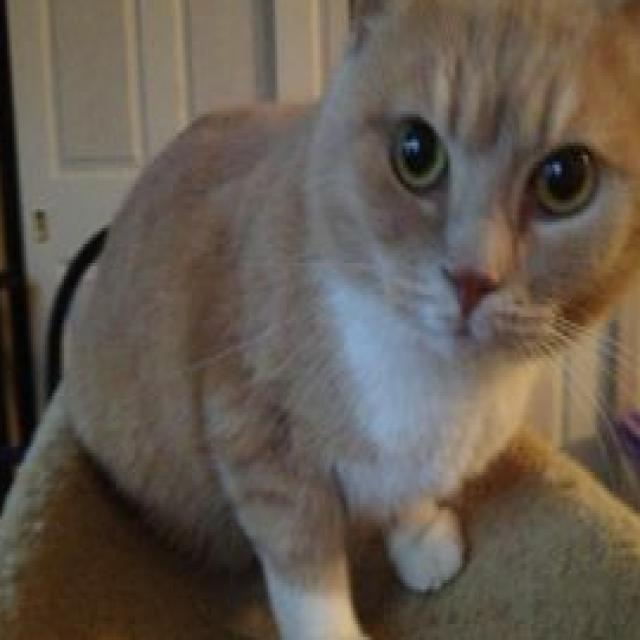British Shorthair: (59, 0, 640, 640)
